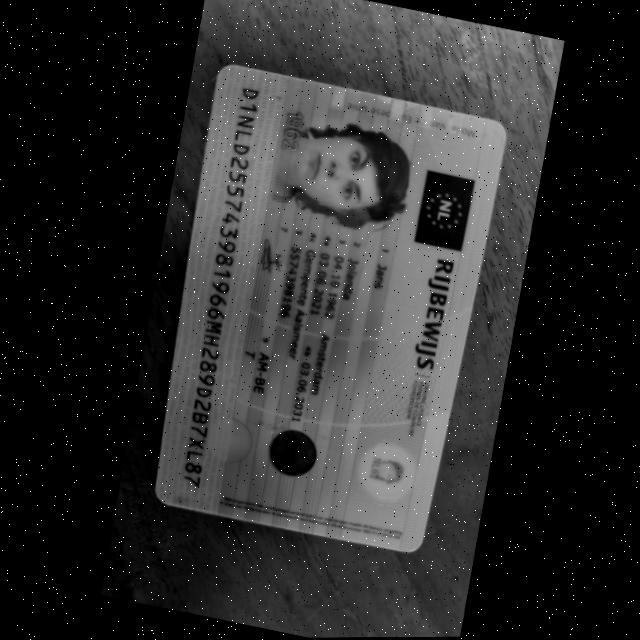card: (157, 66, 504, 551)
